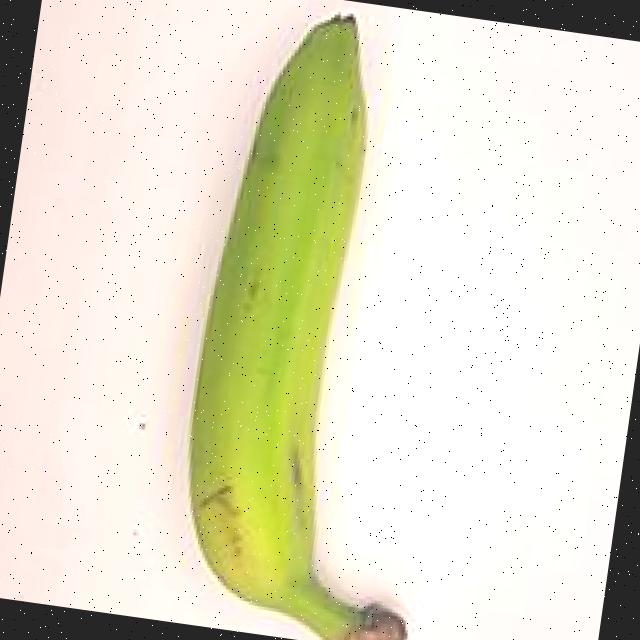Unripe: (90, 0, 521, 640)
